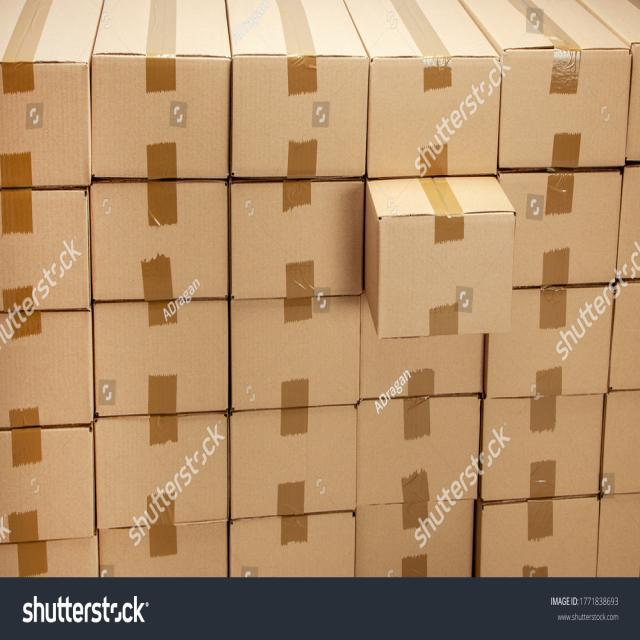BoxFace: (379, 208, 516, 336), (91, 51, 230, 175), (501, 47, 634, 170), (230, 55, 366, 175), (91, 181, 229, 298), (368, 58, 502, 178), (95, 414, 230, 532), (230, 182, 364, 299), (93, 300, 228, 414), (231, 296, 361, 410), (229, 406, 358, 520), (483, 286, 614, 397), (496, 169, 623, 283), (358, 397, 482, 508), (481, 396, 606, 502), (0, 58, 89, 187), (0, 424, 94, 542), (0, 309, 95, 425), (0, 308, 92, 423), (0, 188, 88, 308), (477, 498, 600, 578), (356, 502, 476, 582)
